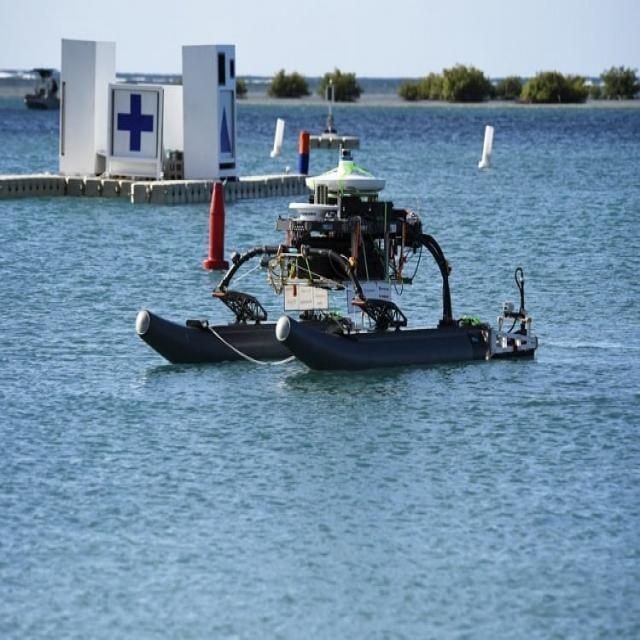Red_Buoy: (207, 182, 230, 278)
Wam_V: (232, 168, 535, 390)
White_Buoy: (475, 122, 503, 173)
